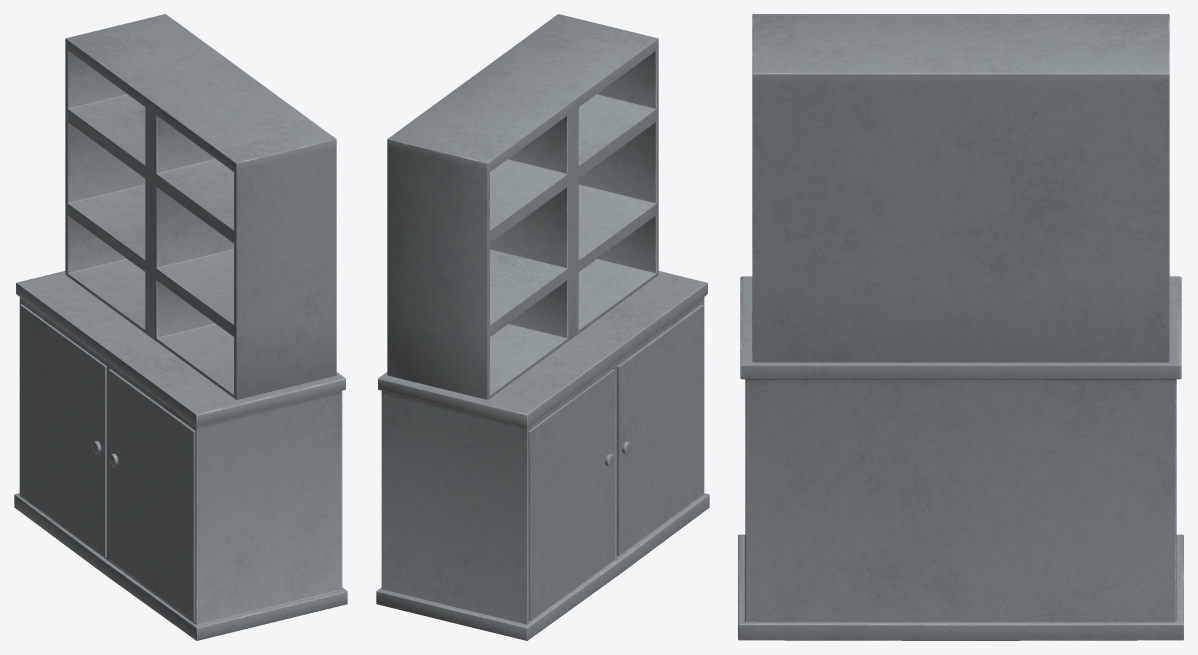
The model's file is Shelf3.fbx.
The picture shows the model from 3 angles, left to right: view 1: azimuth 30°, elevation 25°; view 2: azimuth 150°, elevation 25°; view 3: azimuth 270°, elevation 25°; orthographic projection. The views are drawn at different scales.
Parts seen in each view (by area): view 1: Shelf3; view 2: Shelf3; view 3: Shelf3.
Boxes of the visible parts, box(x1,y1,x2,y2) form: Shelf3: box(14, 14, 347, 640); Shelf3: box(376, 14, 709, 640); Shelf3: box(738, 14, 1183, 640).
Size of the model in its own units: 210 by 604 by 433.
